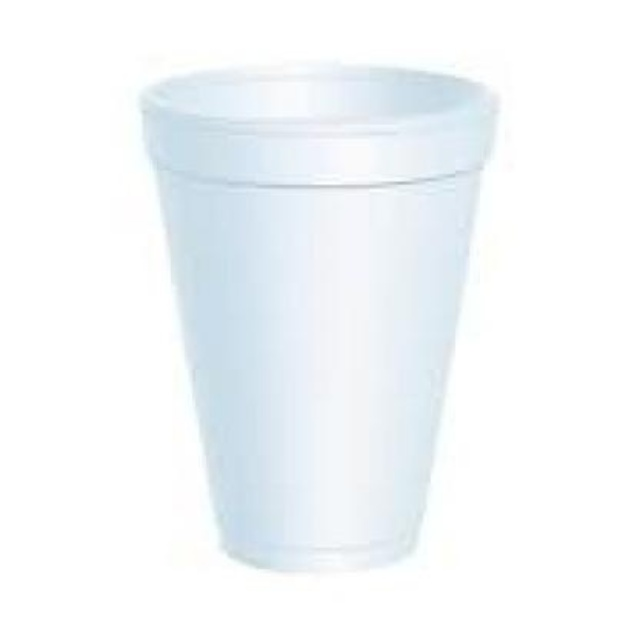trash: (142, 65, 492, 568)
